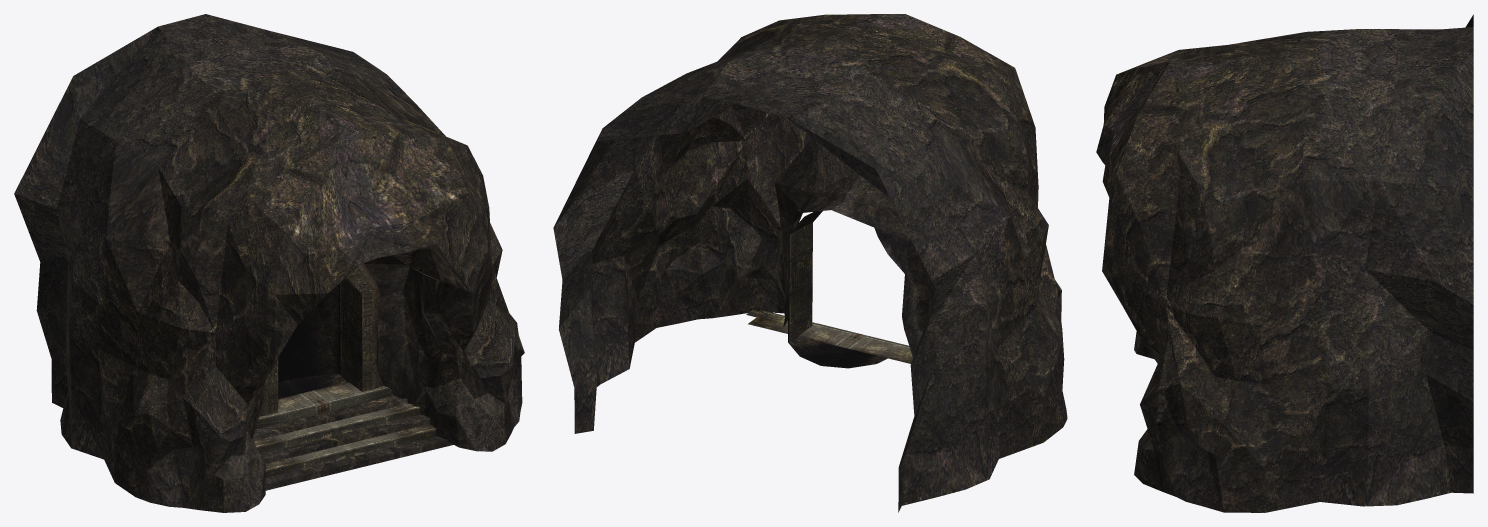
Rendered from devil_entrance1f.fbx.
The picture shows the model from 3 angles, left to right: view 1: azimuth 30°, elevation 25°; view 2: azimuth 150°, elevation 25°; view 3: azimuth 270°, elevation 25°; orthographic projection. The views are drawn at different scales.
Visible parts, largest first — view 1: rock, bilid; view 2: rock, bilid; view 3: rock.
Part boxes in pixels (box(x1,y1,x2,y2)): rock: box(14, 14, 524, 512); bilid: box(254, 263, 437, 477); rock: box(553, 14, 1067, 512); bilid: box(748, 211, 913, 368); rock: box(1096, 14, 1473, 512).
Bounding box in the file's own units: 18.81 × 16.37 × 15.21.
